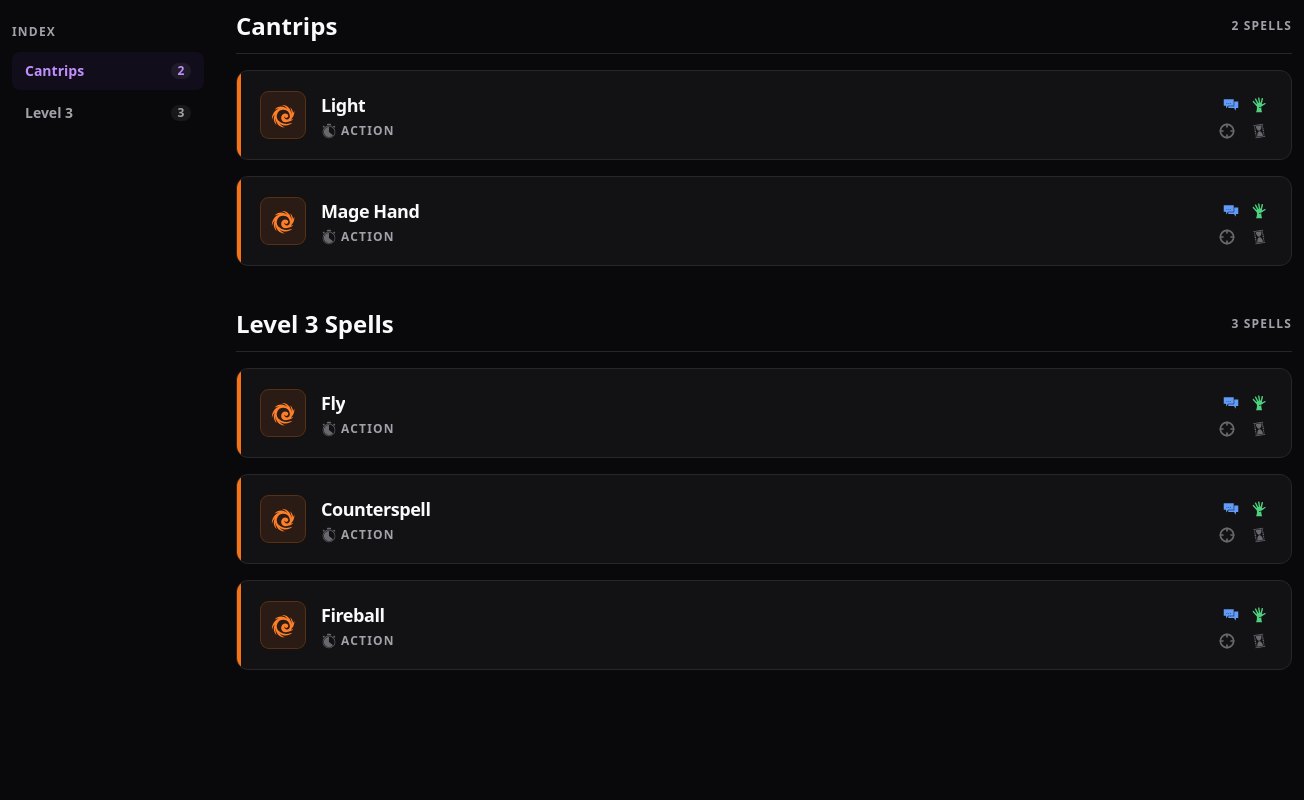
Scenario: Spellbook › expande uma magia por vez
Click the button named "Expand Light" in the row of "Light".
click(764, 115)  # box [237,71,1291,159]
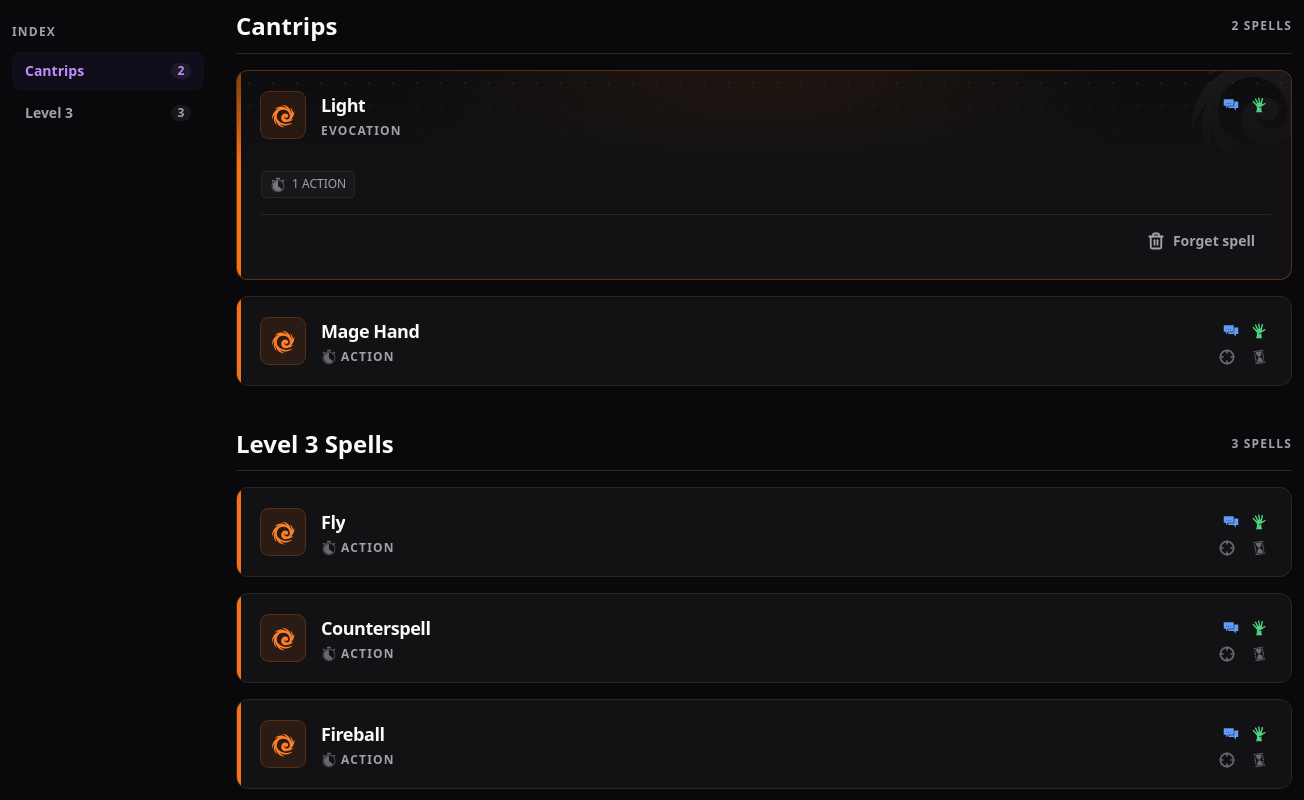
Check: the button named "Expand Light" next to "Evocation" is expanded, box [237,71,1291,279]
Click the button named "Expand Mage Hand" next to "Mage Hand".
click(764, 341)  # box [237,297,1291,385]
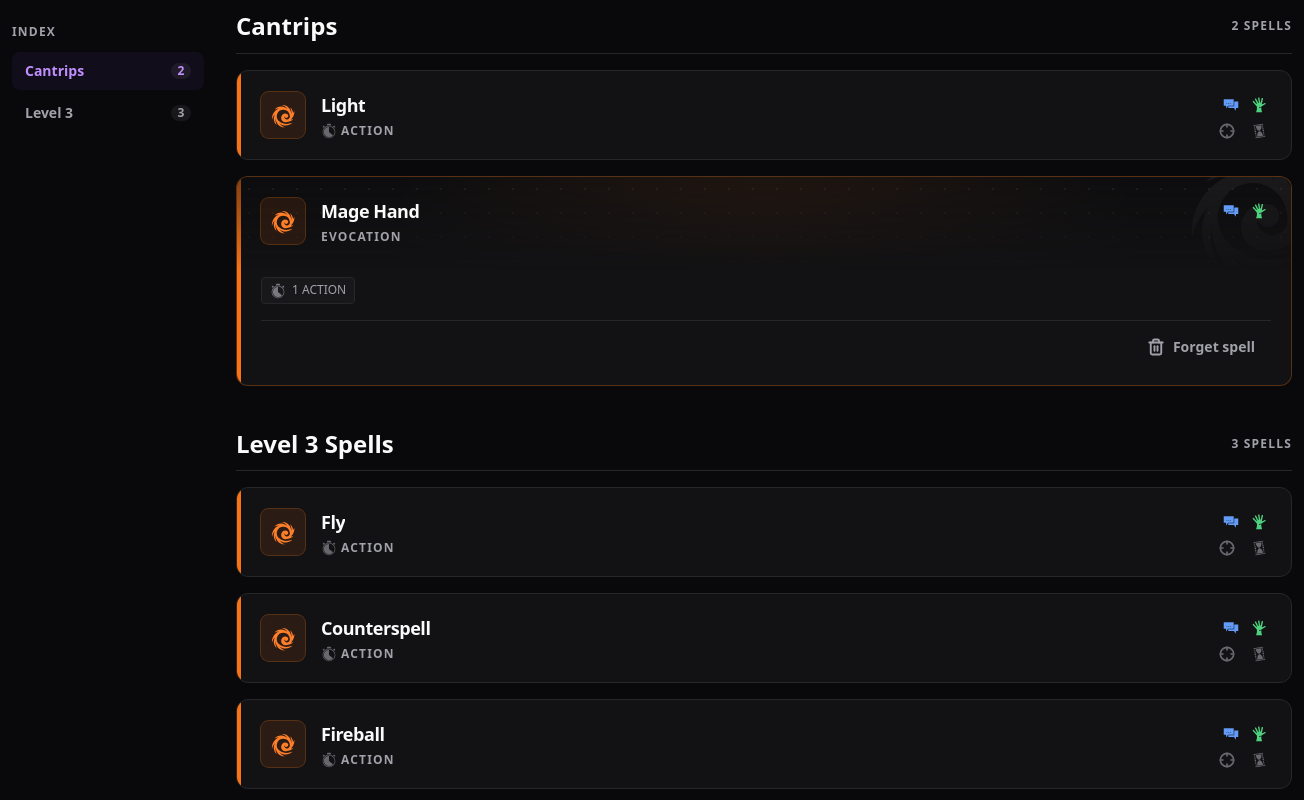
Check: the button named "Expand Light" in the row of "Light" is collapsed, box [237,71,1291,159]
